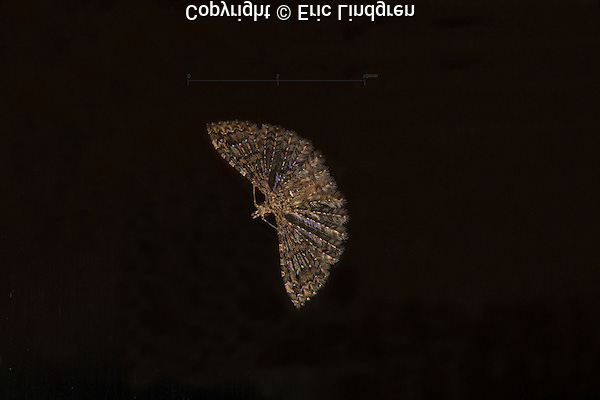Alucitidae: (196, 113, 348, 314)
moth: (198, 115, 350, 316)
